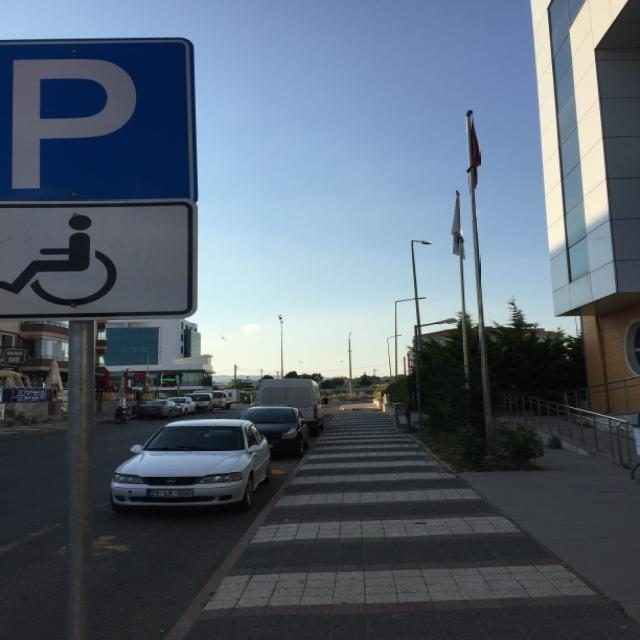park: (1, 40, 199, 202)
